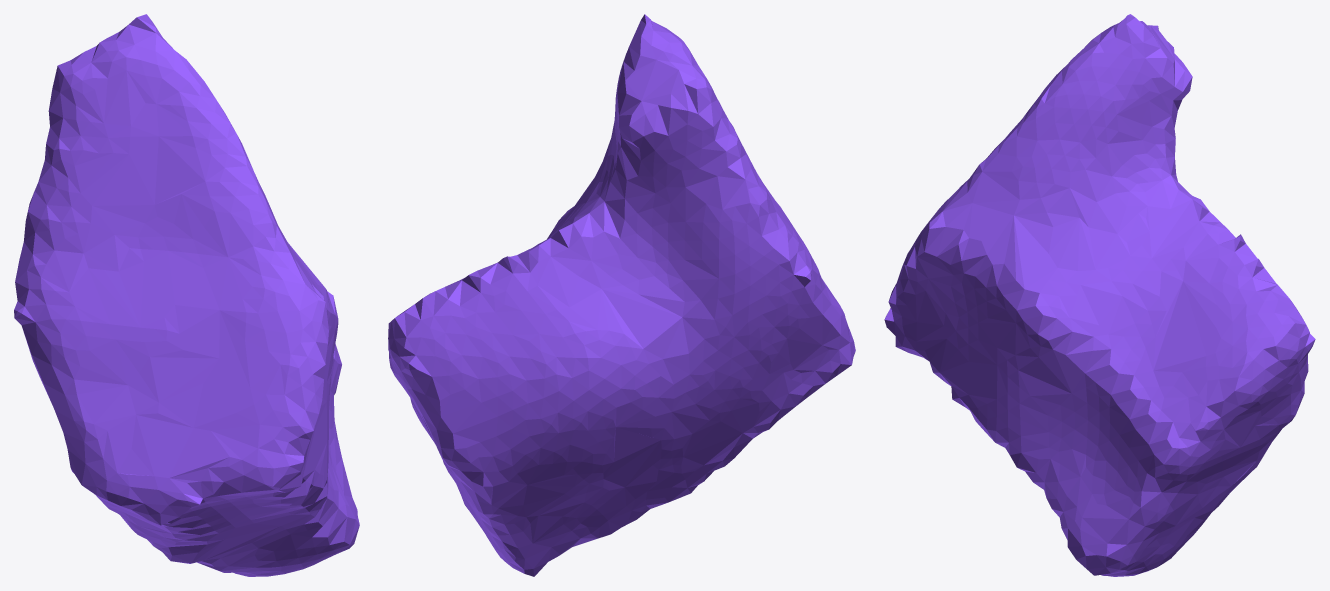
File: Model_10041_LH__Area_8_of_cortex__caudal_part_(A8C).obj
The picture shows the model from 3 angles, left to right: view 1: azimuth 30°, elevation 25°; view 2: azimuth 150°, elevation 25°; view 3: azimuth 270°, elevation 25°; orthographic projection. The views are drawn at different scales.
Bounding box in the file's own units: 1.94 × 2.98 × 2.29.
